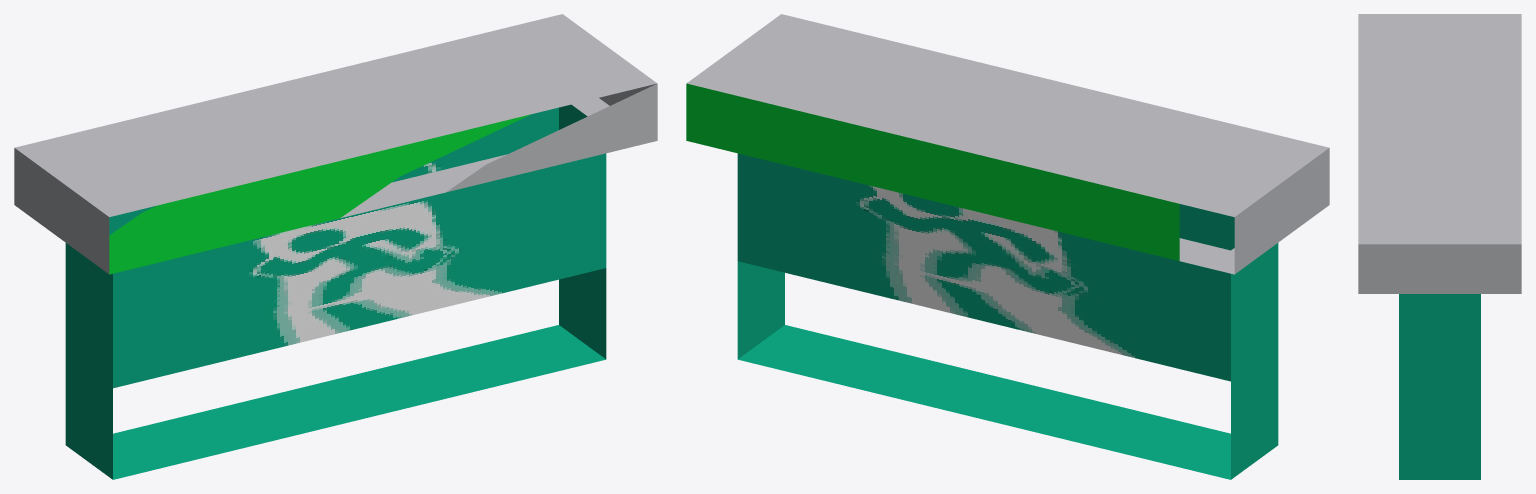
The model's file is Green_Exitsign.gltf.
3 views of the same model, side by side, from view 1: azimuth 30°, elevation 25°; view 2: azimuth 150°, elevation 25°; view 3: azimuth 270°, elevation 25° (orthographic). The views are drawn at different scales.
Parts seen in each view (by area): view 1: mesh; view 2: mesh; view 3: mesh.
Boxes of the visible parts, <box> form: mesh: <box>14,14,657,479</box>; mesh: <box>686,14,1329,479</box>; mesh: <box>1358,14,1521,479</box>.
Bounding box in the file's own units: 1.25 × 0.625 × 0.375.
2 materials, 2 textured.
